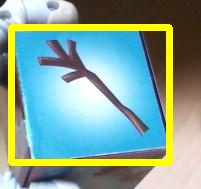Blue4: (11, 27, 169, 162)
